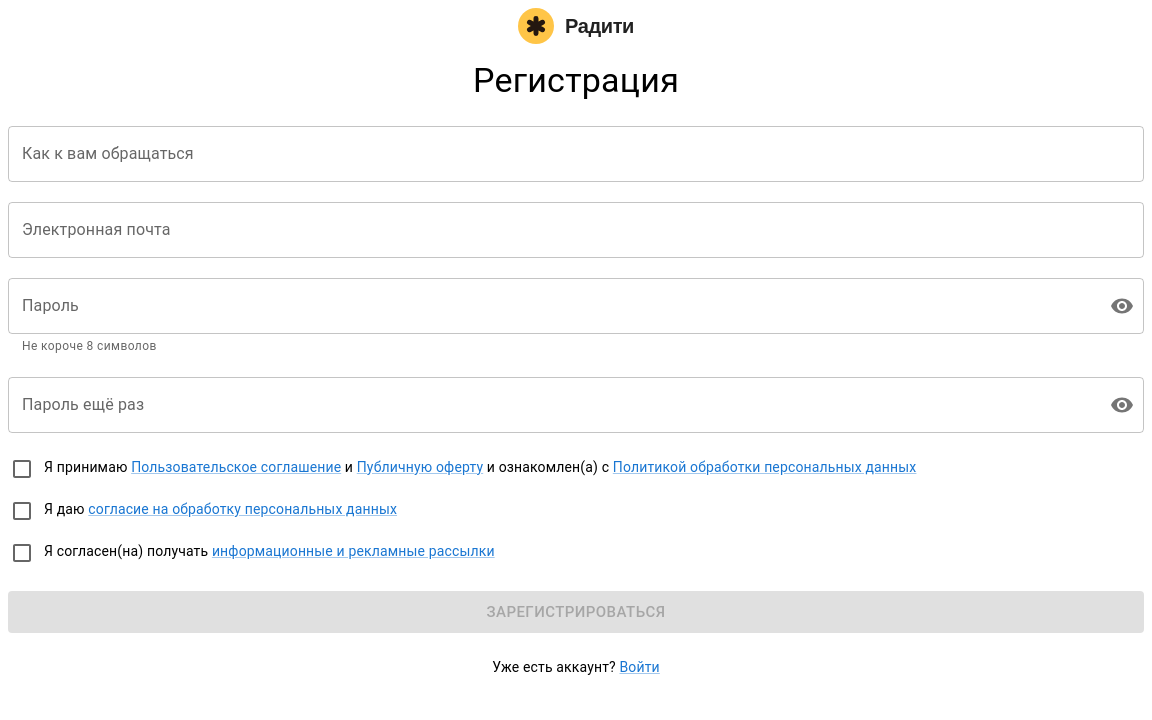
Test case: RegisterForm › reports different passwords under the second field
This screenshot has width=1152, height=720.
Type "Анна" into the field labelled "Как к вам обращаться".
click(576, 154); type("Анна")  # box [8,126,1144,182]
Type " anna@example.ru " into the field labelled "Электронная почта".
click(576, 230); type(" anna@example.ru ")  # box [8,202,1144,258]
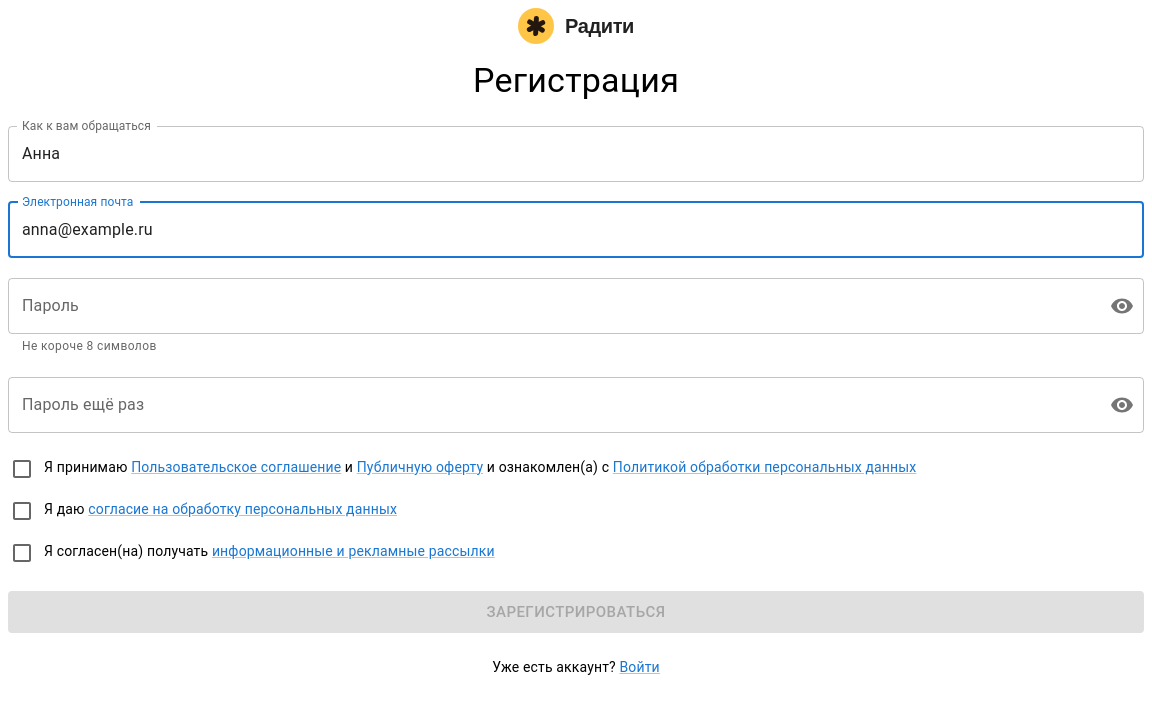
Type "secret-pass" into the password field labelled "Пароль".
click(551, 306); type("secret-pass")  # box [8,278,1094,334]
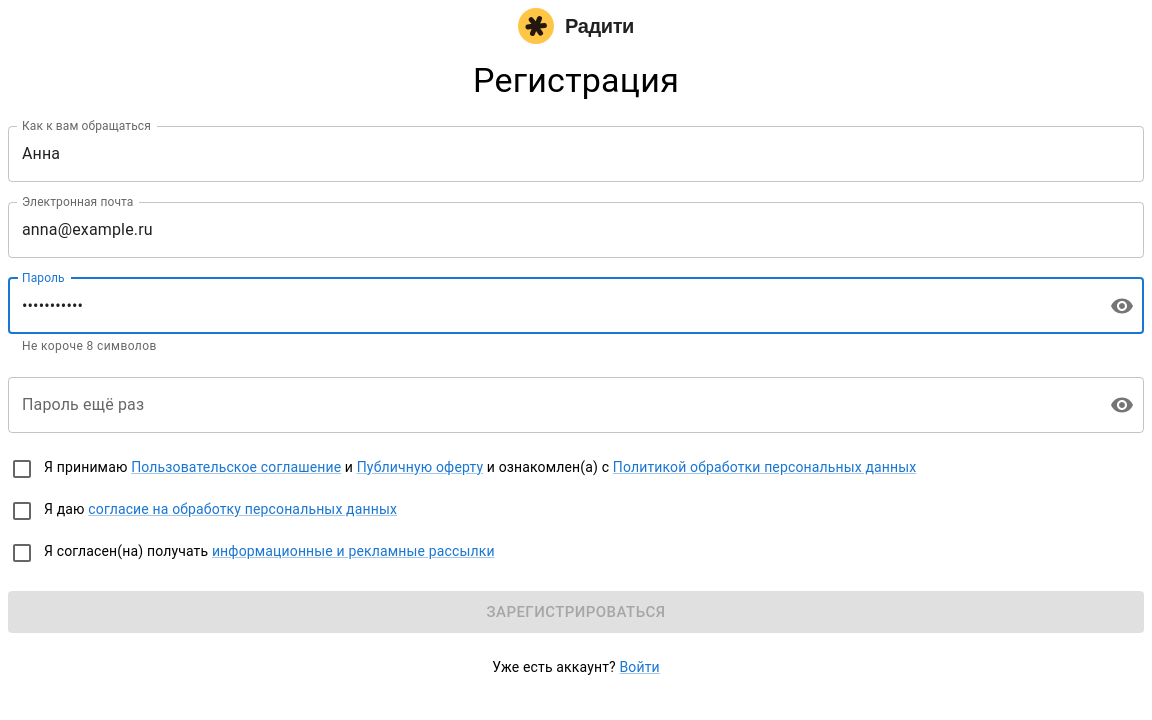
Type "other-pass" into the password field labelled "Пароль ещё раз".
click(551, 405); type("other-pass")  # box [8,377,1094,433]
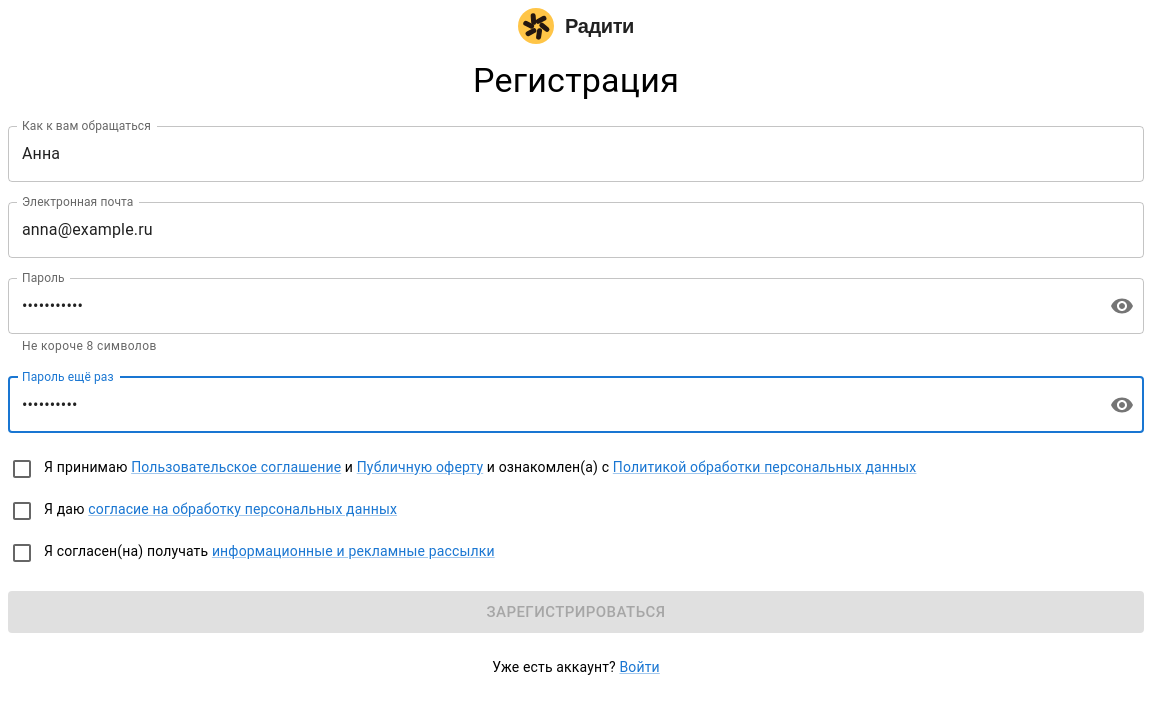
Click the checkbox labelled "Я принимаю".
click(463, 469)  # box [10,457,916,481]
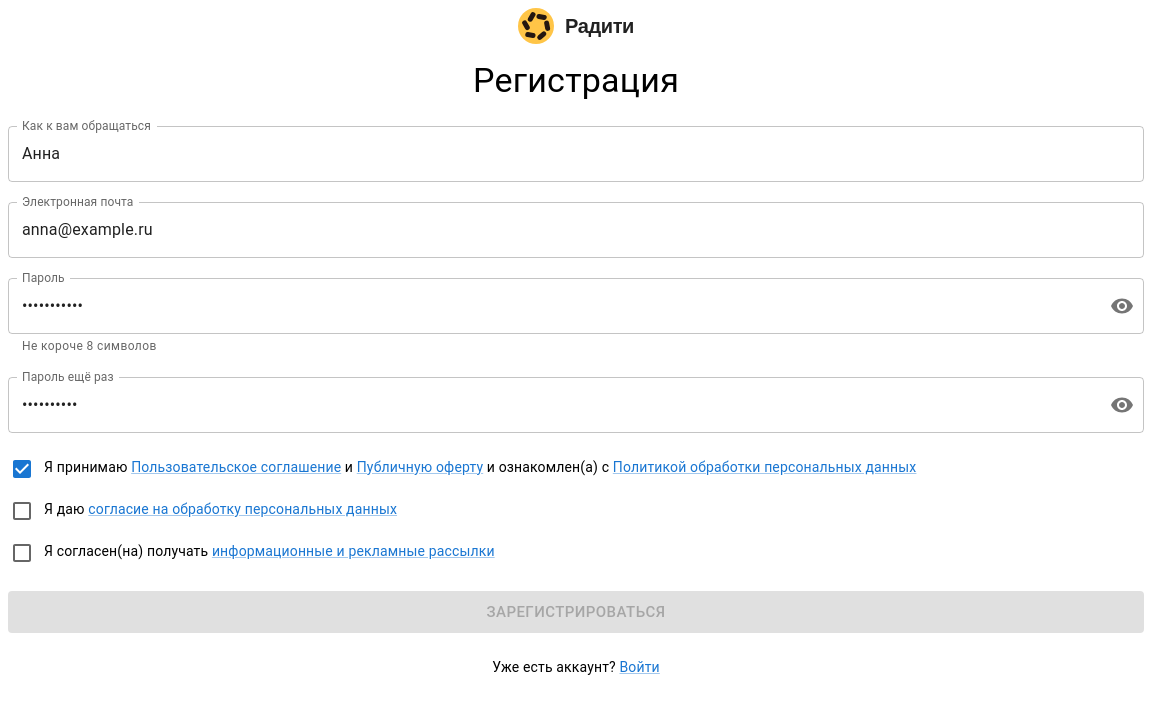
Click the checkbox labelled "Я даю согласие на обработку персональных данных".
click(204, 511)  # box [10,499,397,523]
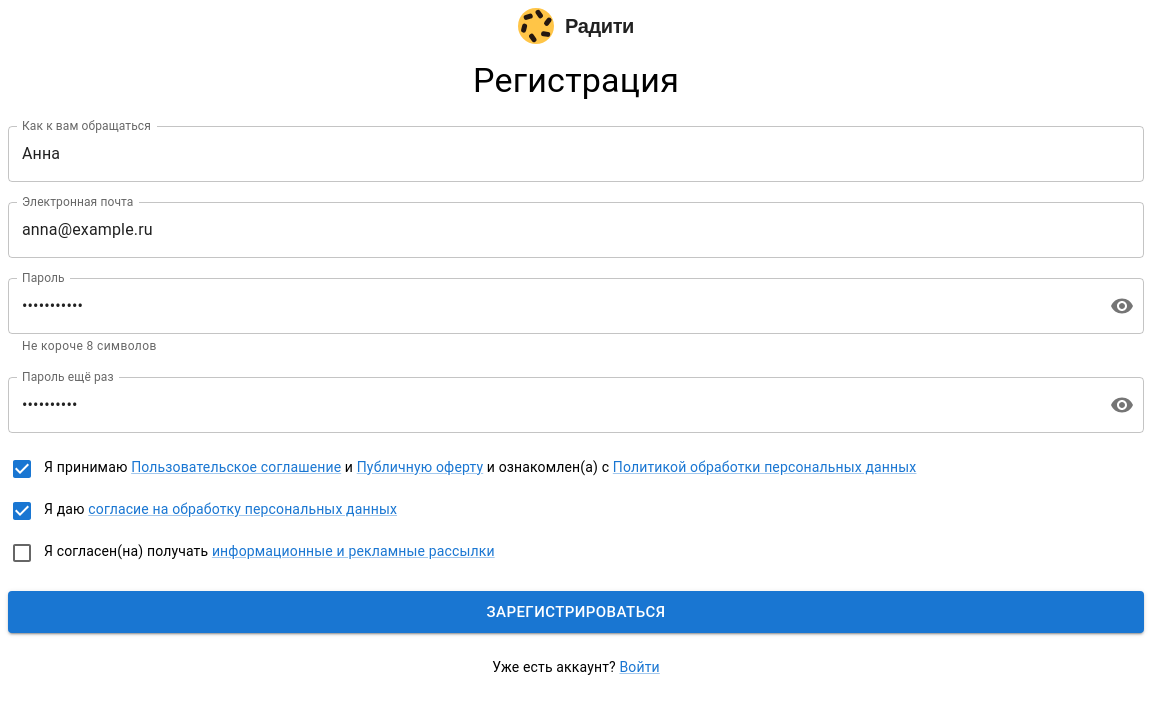
Click the button "Зарегистрироваться".
click(576, 612)  # box [8,591,1144,633]
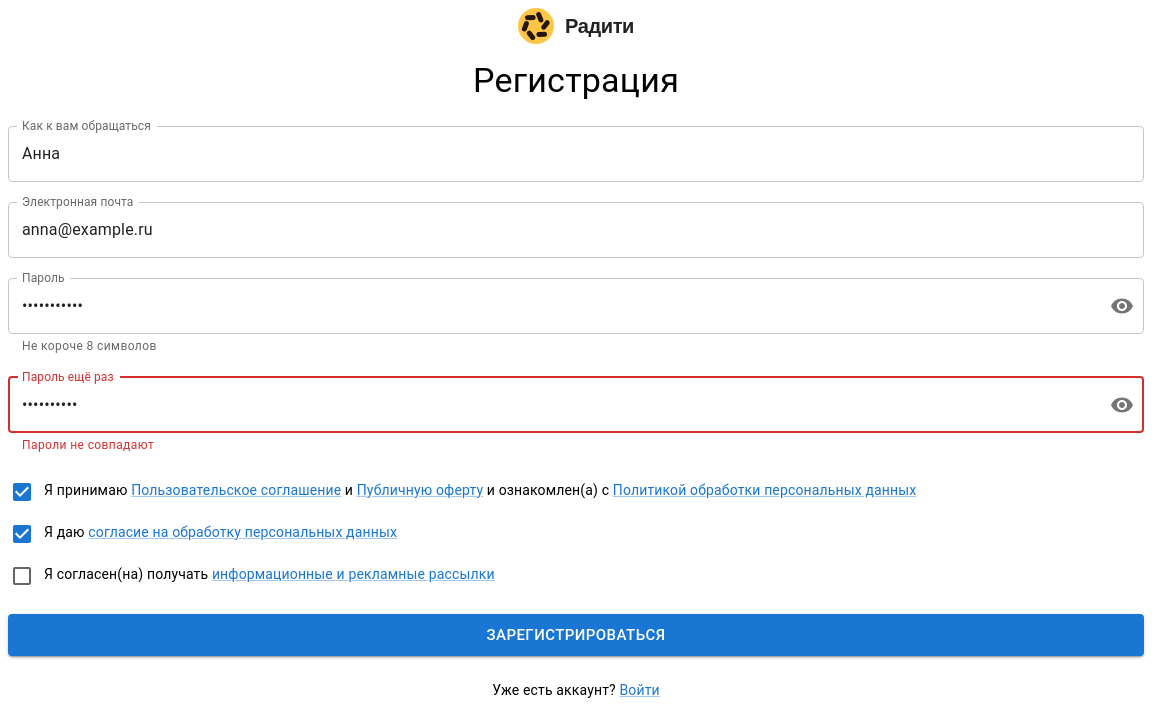
Now the text "Пароли не совпадают" is shown, box [22,438,154,452]
